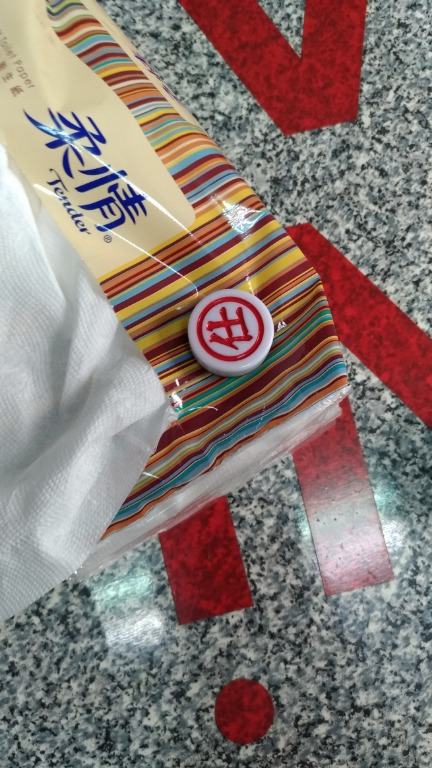r-advisor: (179, 282, 295, 390)
